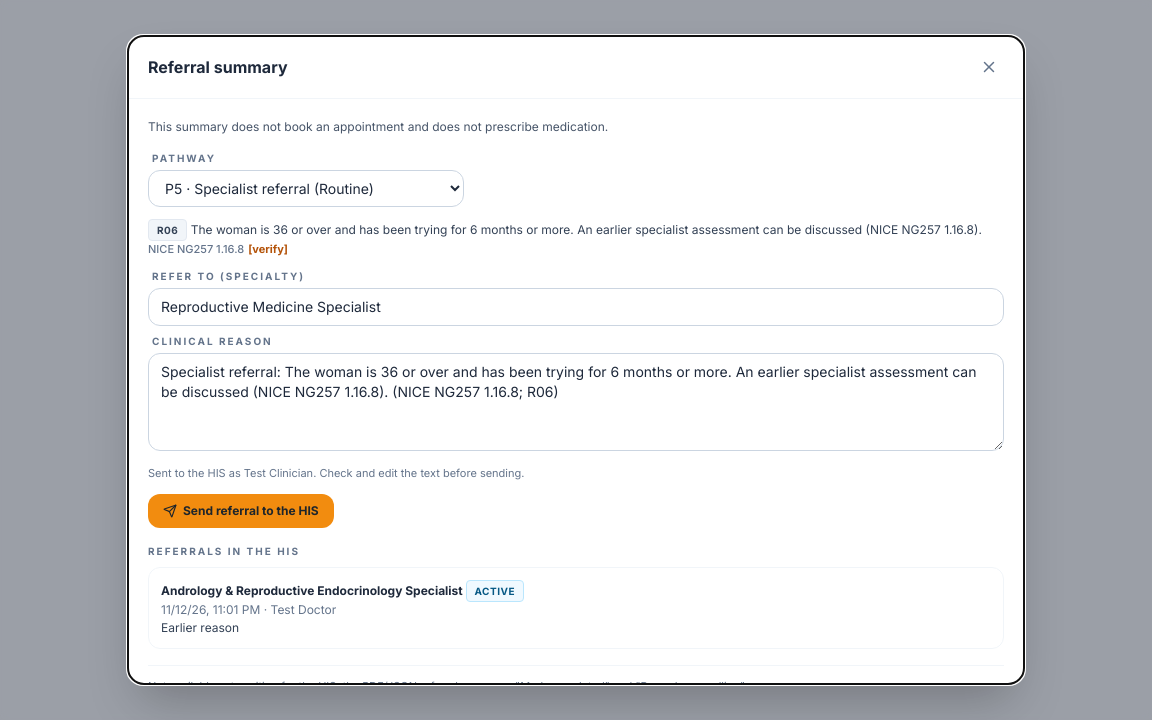
Test case: Referral summary dialog with the HIS › keeps nothing locally when the HIS refuses the referral
Expected: the text box labelled "Clinical reason" is not empty, [148,353,1004,451]
Click the button "Send referral to the HIS" at coordinates (241, 510), box [148,494,334,528]
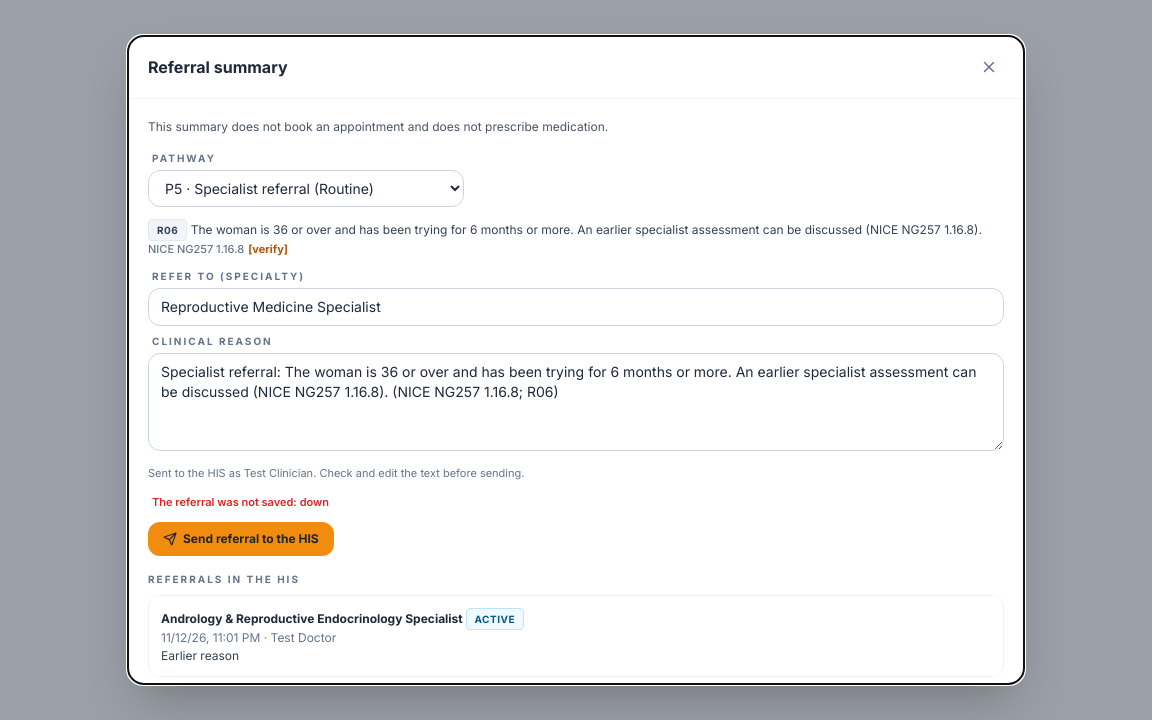
Expected: the text "The referral was not saved: down" is shown, [152,494,329,508]
